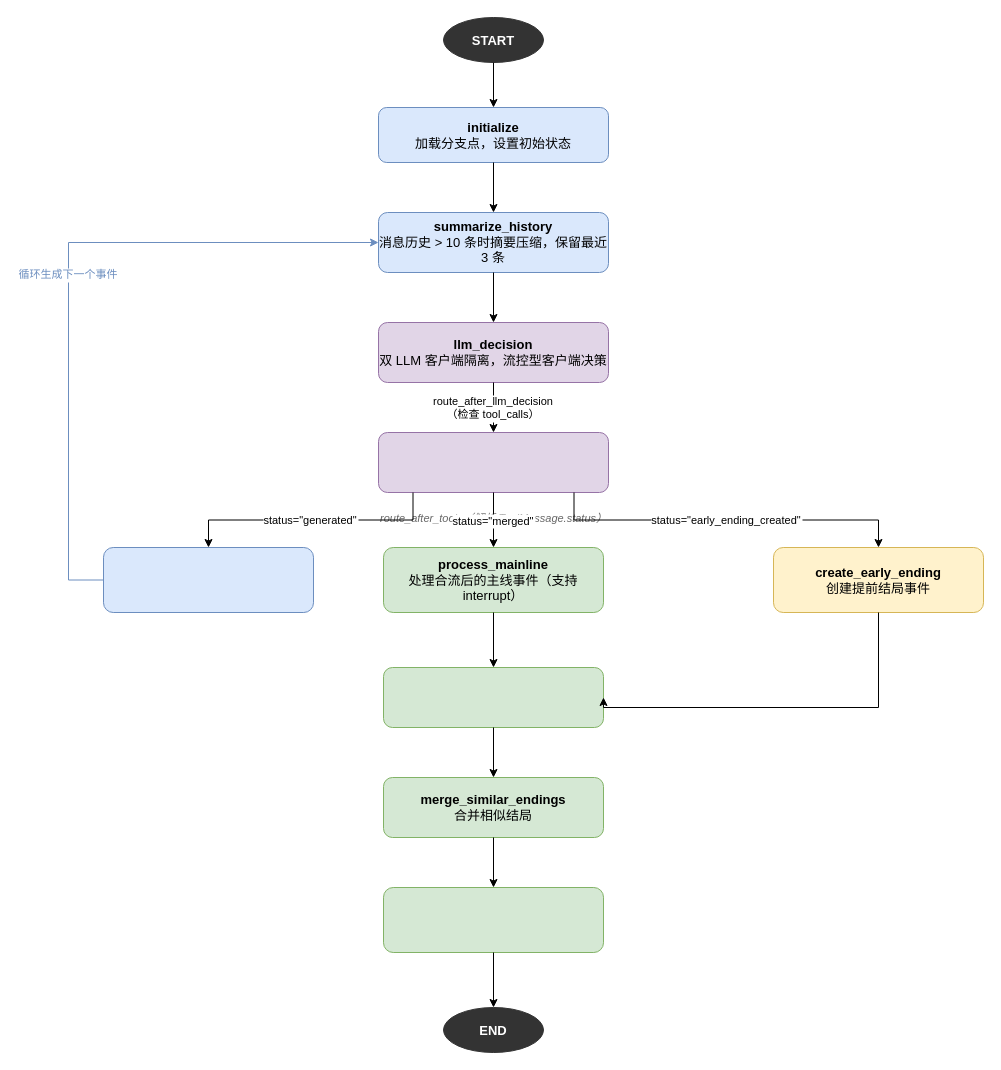
This 1001x1070 diagram has some shape labels left out. Each missing label, with the centre of its shape:
"generate_branch_event 生成新分支事件，更新状态" goes at point (208, 579).
"identify_similar_endings 识别相似结局分组" goes at point (493, 697).
"select_dramatic_ending 选择文学性结局（支持 interrupt 人工确认）" goes at point (493, 919).
"tools（ToolNode） 执行工具调用，返回 ToolMessage（含 status）" goes at point (493, 462).
